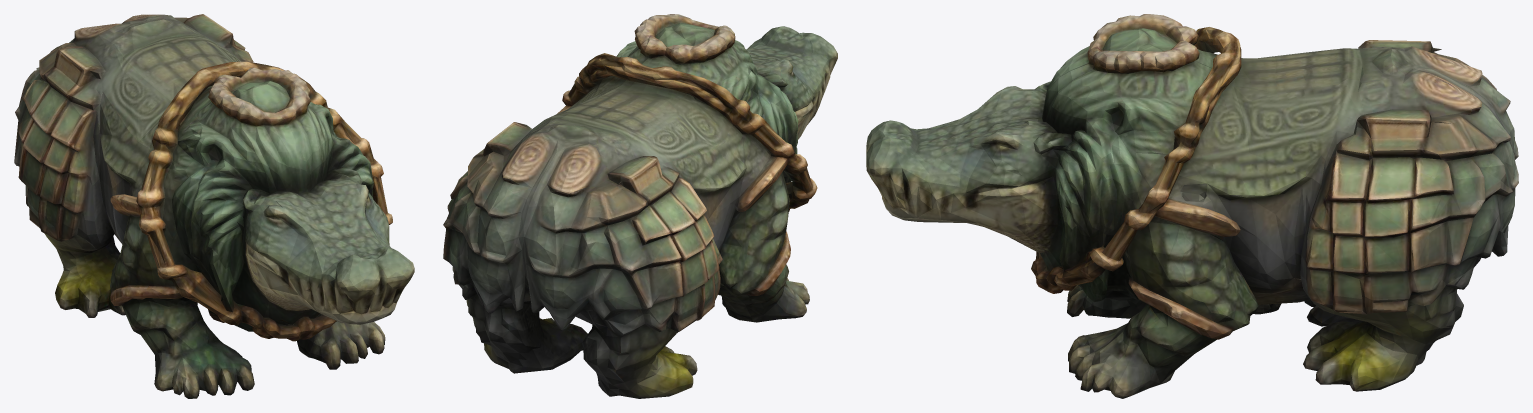
Rendered from crushjaw__scalehide.glb.
3 views of the same model, side by side, from view 1: azimuth 30°, elevation 25°; view 2: azimuth 150°, elevation 25°; view 3: azimuth 270°, elevation 25° (orthographic). The views are drawn at different scales.
Parts seen in each view (by area): view 1: world; view 2: world; view 3: world.
Part boxes in pixels (box(x1,y1,x2,y2)): world: box(14, 14, 414, 398); world: box(443, 14, 837, 398); world: box(866, 14, 1518, 398).
Size of the model in its own units: 0.4872 by 0.5159 by 0.9959.
Materials: 1 (1 with a texture image).
